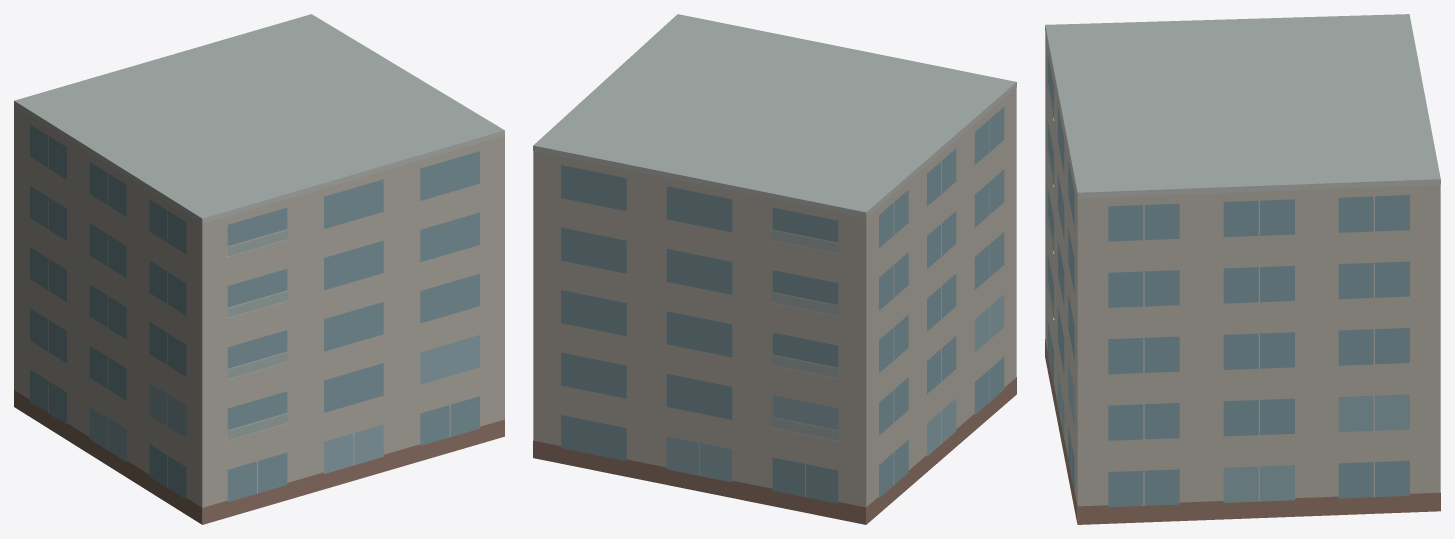
File: survey-upis-32723361.glb
The picture shows the model from 3 angles, left to right: view 1: azimuth 30°, elevation 25°; view 2: azimuth 150°, elevation 25°; view 3: azimuth 270°, elevation 25°; orthographic projection. The views are drawn at different scales.
Visible parts, largest first — view 1: survey-upis-32723361.tmp; view 2: survey-upis-32723361.tmp; view 3: survey-upis-32723361.tmp.
Boxes of the visible parts, <box> form: survey-upis-32723361.tmp: <box>14,14,504,524</box>; survey-upis-32723361.tmp: <box>533,14,1016,524</box>; survey-upis-32723361.tmp: <box>1045,14,1440,524</box>.
Bounding box in the file's own units: 16.51 × 14.3 × 15.45.
